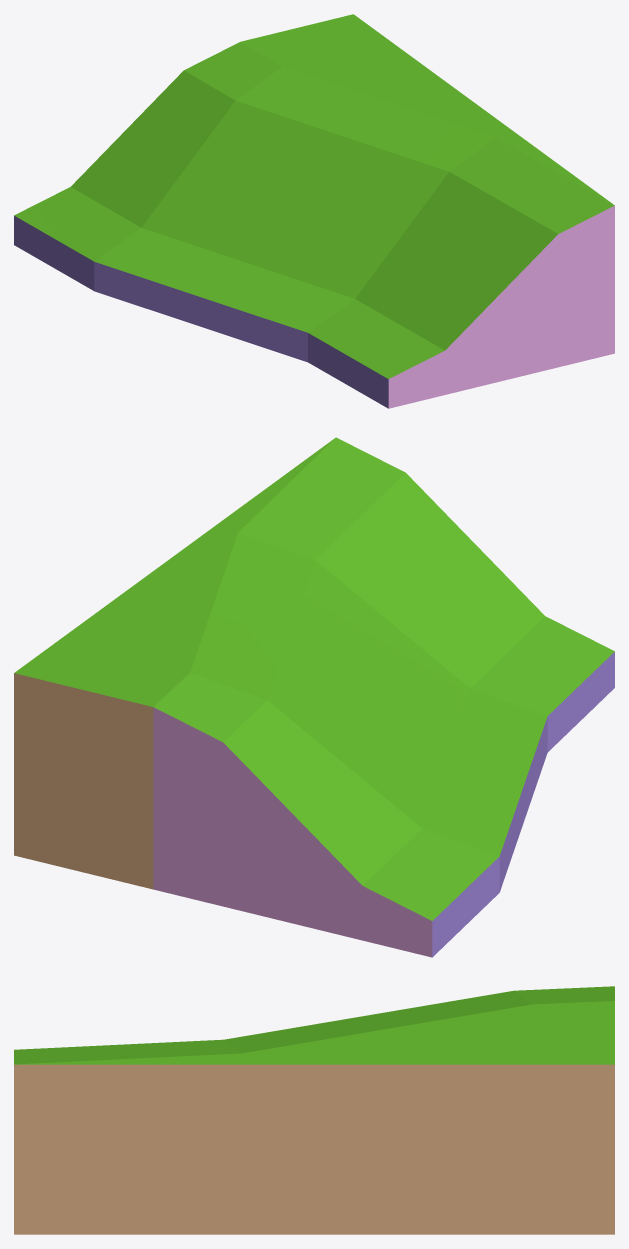
The model's file is Grass_Hill_Sharp_Esse_4x3.glb.
3 renders of one model, top to bottom at view 1: azimuth 30°, elevation 25°; view 2: azimuth 150°, elevation 25°; view 3: azimuth 270°, elevation 25°, orthographic. The views are drawn at different scales.
Parts seen in each view (by area): view 1: Grass_Hill_Sharp_Esse_4x3; view 2: Grass_Hill_Sharp_Esse_4x3; view 3: Grass_Hill_Sharp_Esse_4x3.
Part boxes in pixels (bbox=[...]): Grass_Hill_Sharp_Esse_4x3: bbox=[14, 14, 614, 408]; Grass_Hill_Sharp_Esse_4x3: bbox=[14, 437, 614, 957]; Grass_Hill_Sharp_Esse_4x3: bbox=[14, 986, 614, 1234].
Size of the model in its own units: 300 by 125 by 400.
